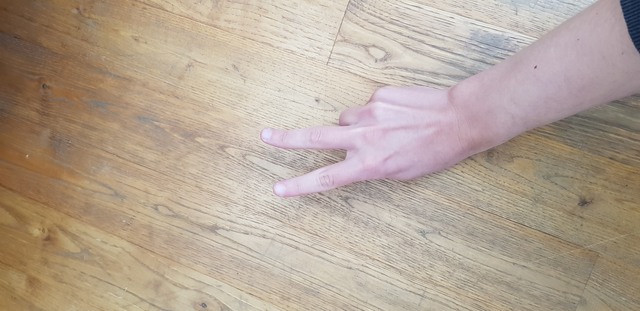Scissors: (247, 72, 489, 217)
